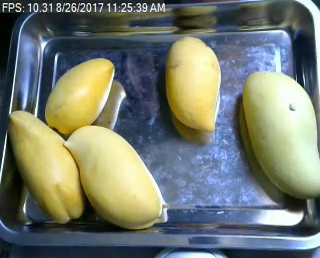Mango: (65, 126, 165, 228), (241, 71, 320, 200), (9, 109, 83, 223), (164, 37, 222, 131), (44, 55, 114, 132)
